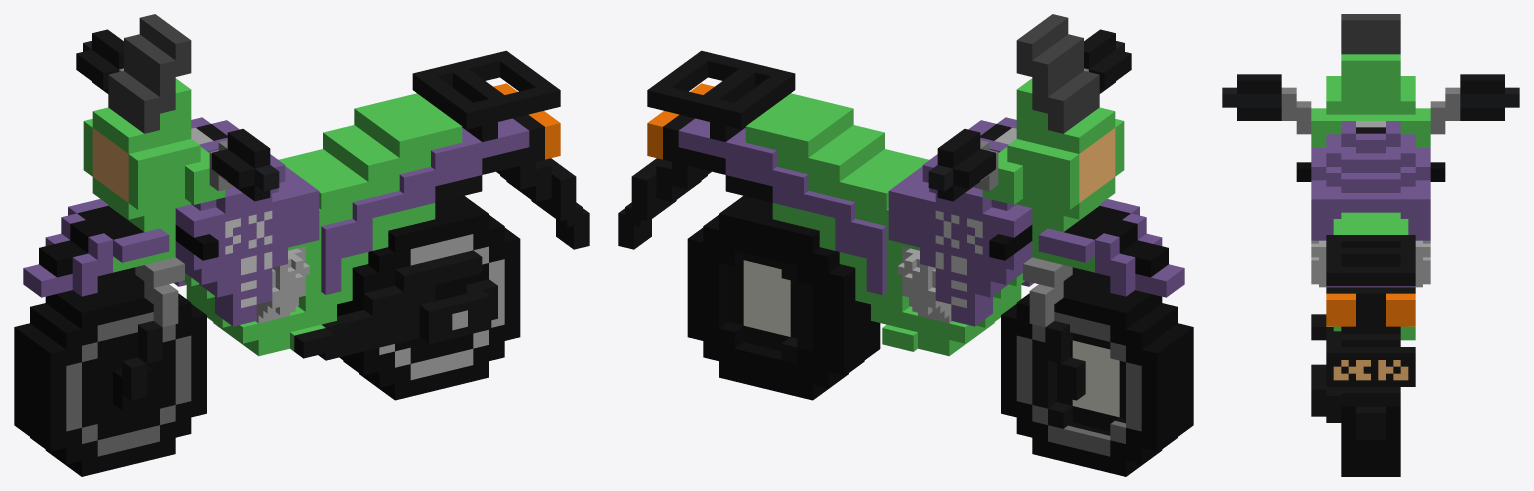
The model's file is eva01motorbike-len2.glb.
3 views of the same model, side by side, from view 1: azimuth 30°, elevation 25°; view 2: azimuth 150°, elevation 25°; view 3: azimuth 270°, elevation 25° (orthographic). The views are drawn at different scales.
Parts seen in each view (by area): view 1: _0; view 2: _0; view 3: _0.
Part boxes in pixels (<box>): _0: <box>14,14,589,476</box>; _0: <box>618,14,1193,476</box>; _0: <box>1222,14,1519,476</box>.
Bounding box in the file's own units: 0.105 × 0.075 × 0.06.
